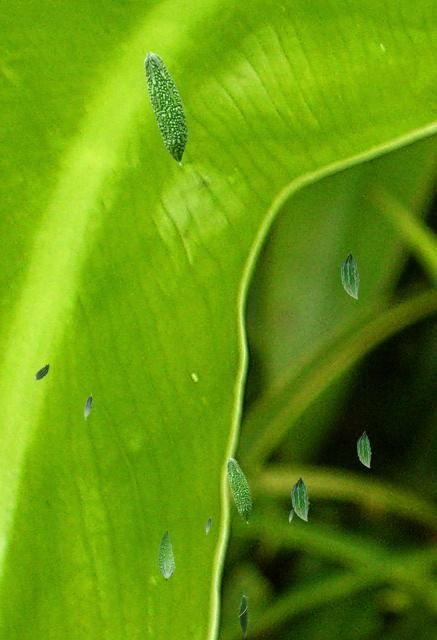ampalaya: (143, 51, 189, 167), (226, 457, 252, 524), (156, 528, 175, 580), (340, 250, 359, 299), (290, 475, 309, 521), (356, 430, 371, 468), (237, 590, 249, 637), (33, 363, 49, 382), (83, 393, 92, 420), (205, 516, 211, 535), (288, 508, 293, 523)
